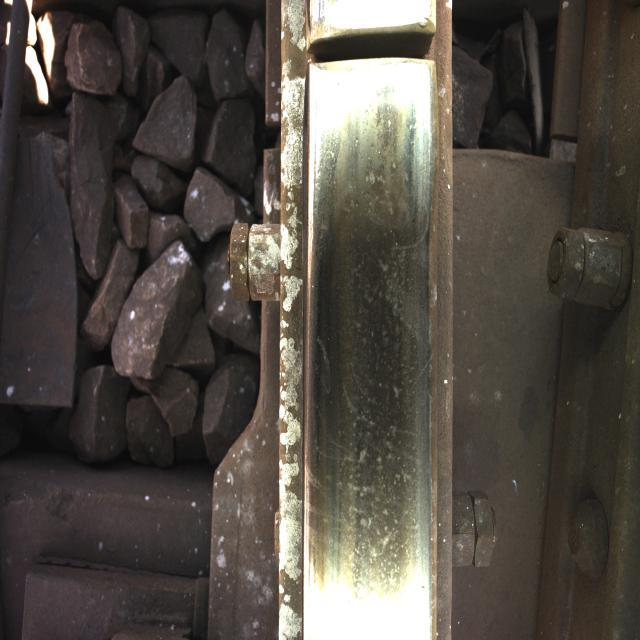spalling: (300, 0, 465, 90)
